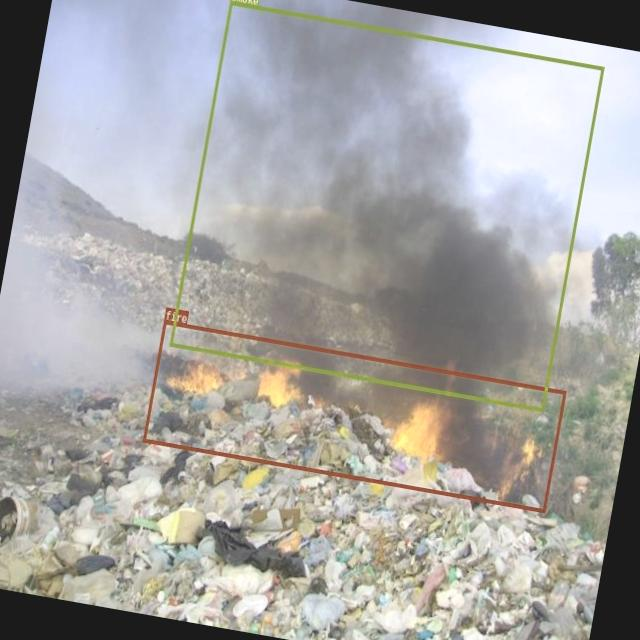fire: (142, 319, 565, 512)
smoke: (169, 0, 604, 411)
